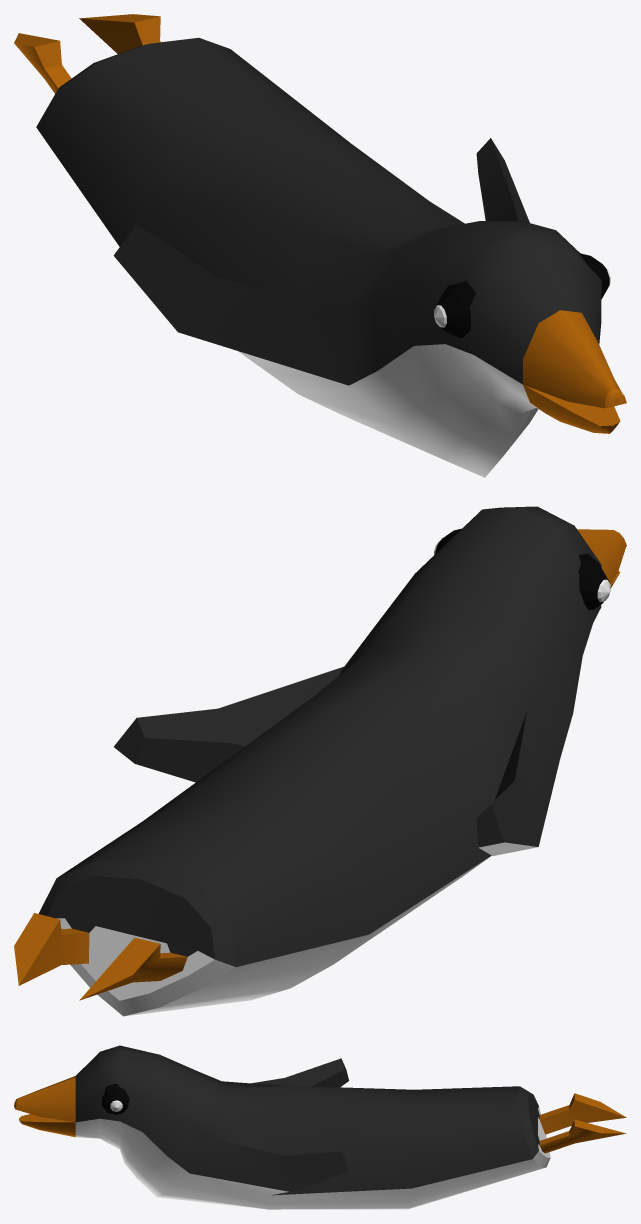
Rendered from Penguin.fbx.
3 views of the same model, one above another, from view 1: azimuth 30°, elevation 25°; view 2: azimuth 150°, elevation 25°; view 3: azimuth 270°, elevation 25° (orthographic). The views are drawn at different scales.
Visible parts, largest first — view 1: pCylinder16; view 2: pCylinder16; view 3: pCylinder16.
Part boxes in pixels (box(x1,y1,x2,y2)): pCylinder16: box(14, 14, 626, 477); pCylinder16: box(14, 506, 626, 1016); pCylinder16: box(14, 1045, 626, 1209).
Size of the model in its own units: 0.8276 by 0.5992 by 2.08.
